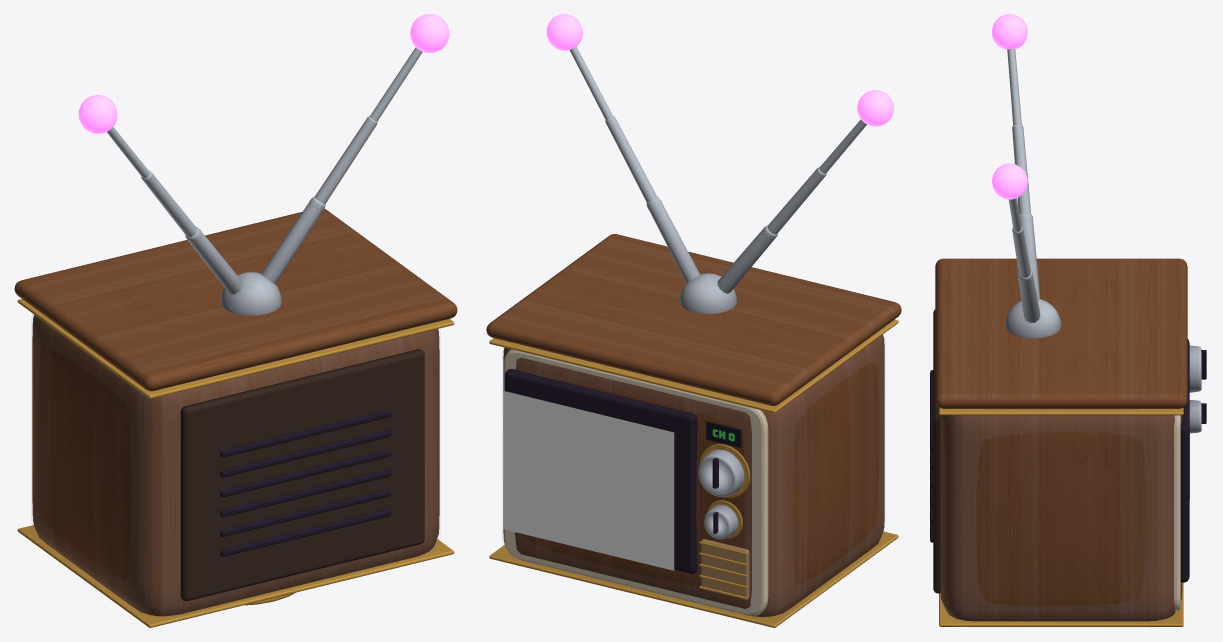
File: baron_head.glb
The picture shows the model from 3 angles, left to right: view 1: azimuth 30°, elevation 25°; view 2: azimuth 150°, elevation 25°; view 3: azimuth 270°, elevation 25°; orthographic projection. The views are drawn at different scales.
Visible parts, largest first — view 1: merged_toon_ffffff, baron_head, merged_toon_241A2C, merged_toon_C8963C, antennaL, antennaR, merged_toon_B9C1CB, antennaL_tip, antennaR_tip; view 2: merged_toon_ffffff, baron_crack, baron_head, merged_toon_241A2C, merged_toon_C8963C, merged_toon_B9C1CB, antennaL, antennaR, antennaR_tip, antennaL_tip; view 3: merged_toon_ffffff, merged_toon_C8963C, baron_head, merged_toon_241A2C, merged_toon_B9C1CB, antennaR, antennaL, antennaL_tip, antennaR_tip.
Boxes of the visible parts, x1=… form: merged_toon_ffffff: x1=14, y1=208, x2=457, y2=616; baron_head: x1=33, y1=314, x2=424, y2=601; merged_toon_241A2C: x1=220, y1=410, x2=391, y2=556; merged_toon_C8963C: x1=17, y1=299, x2=454, y2=627; antennaL: x1=261, y1=47, x2=422, y2=284; antennaR: x1=107, y1=127, x2=242, y2=294; merged_toon_B9C1CB: x1=221, y1=272, x2=281, y2=315; antennaL_tip: x1=410, y1=14, x2=449, y2=52; antennaR_tip: x1=78, y1=95, x2=117, y2=133; merged_toon_ffffff: x1=486, y1=234, x2=901, y2=616; baron_crack: x1=503, y1=391, x2=674, y2=570; baron_head: x1=503, y1=349, x2=768, y2=615; merged_toon_241A2C: x1=505, y1=369, x2=718, y2=573; merged_toon_C8963C: x1=489, y1=319, x2=898, y2=627; merged_toon_B9C1CB: x1=680, y1=273, x2=744, y2=539; antennaL: x1=569, y1=46, x2=699, y2=283; antennaR: x1=717, y1=119, x2=866, y2=293; antennaR_tip: x1=857, y1=90, x2=893, y2=126; antennaL_tip: x1=546, y1=14, x2=582, y2=50; merged_toon_ffffff: x1=935, y1=258, x2=1187, y2=621; merged_toon_C8963C: x1=939, y1=408, x2=1189, y2=626; baron_head: x1=933, y1=309, x2=1180, y2=611; merged_toon_241A2C: x1=930, y1=339, x2=1206, y2=582; merged_toon_B9C1CB: x1=1005, y1=298, x2=1201, y2=433; antennaR: x1=1007, y1=48, x2=1040, y2=298; antennaL: x1=1008, y1=198, x2=1040, y2=322; antennaL_tip: x1=991, y1=163, x2=1027, y2=199; antennaR_tip: x1=991, y1=14, x2=1027, y2=49.
Size of the model in its own units: 1.93 by 2.72 by 1.38.
Materials: 11 (3 with a texture image).
